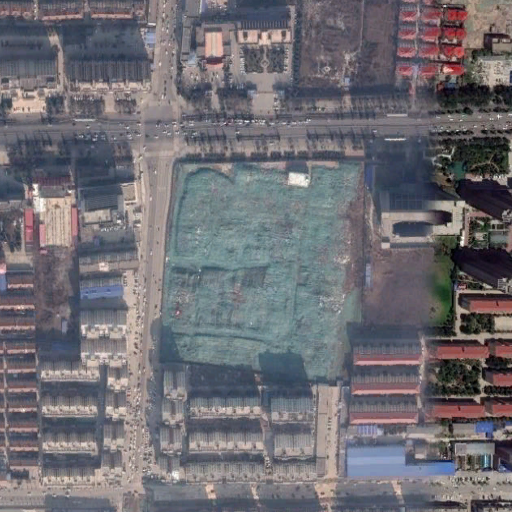cw: (161, 158, 363, 389)
